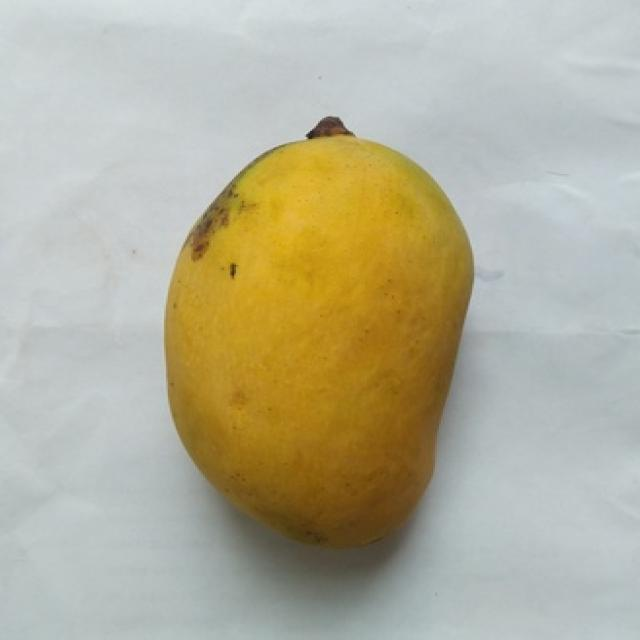Mango: (168, 118, 472, 546)
